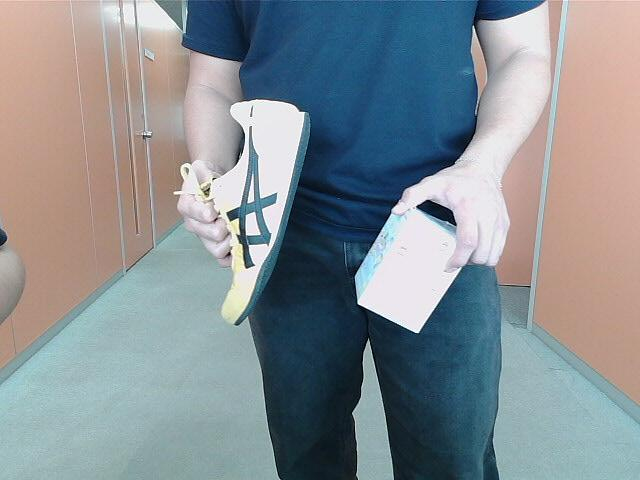Blind_box: (355, 200, 473, 337)
Shoes: (204, 98, 313, 329)
